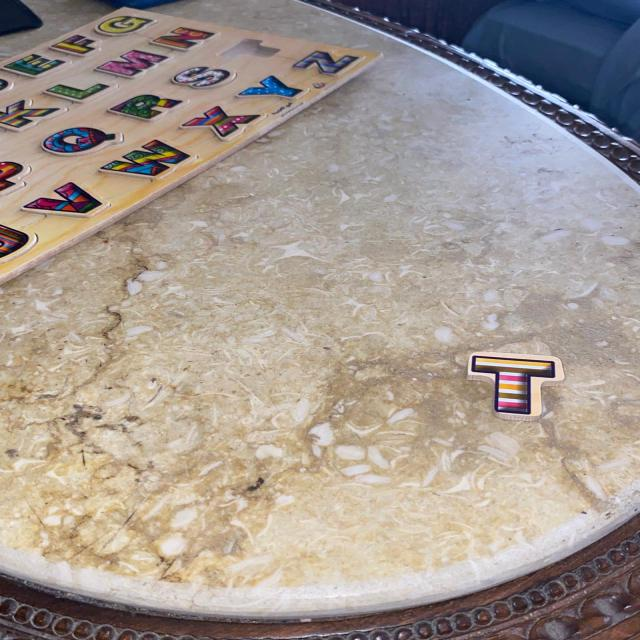T: (467, 352, 563, 420)
